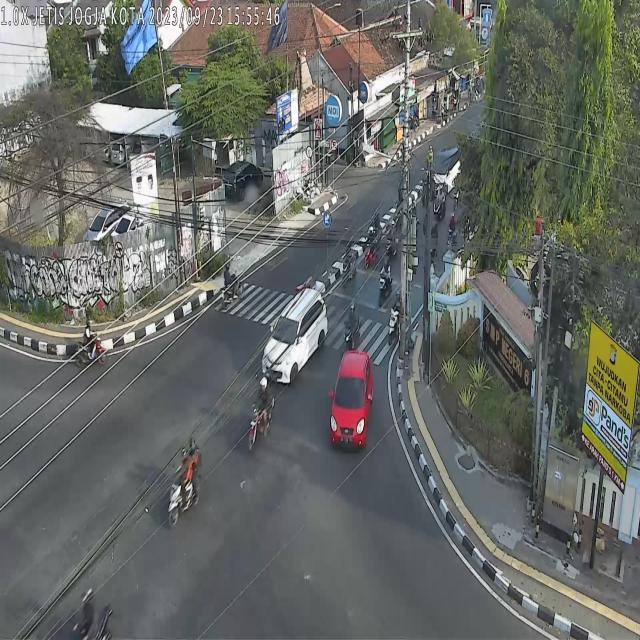car: (263, 286, 328, 388), (328, 350, 372, 449), (426, 149, 464, 194)
motorcycle: (170, 434, 202, 528), (247, 378, 274, 450), (78, 313, 105, 360), (220, 264, 244, 313), (386, 289, 404, 340), (342, 296, 360, 346), (377, 258, 392, 302), (364, 222, 378, 266), (433, 188, 448, 224), (342, 241, 354, 281)
